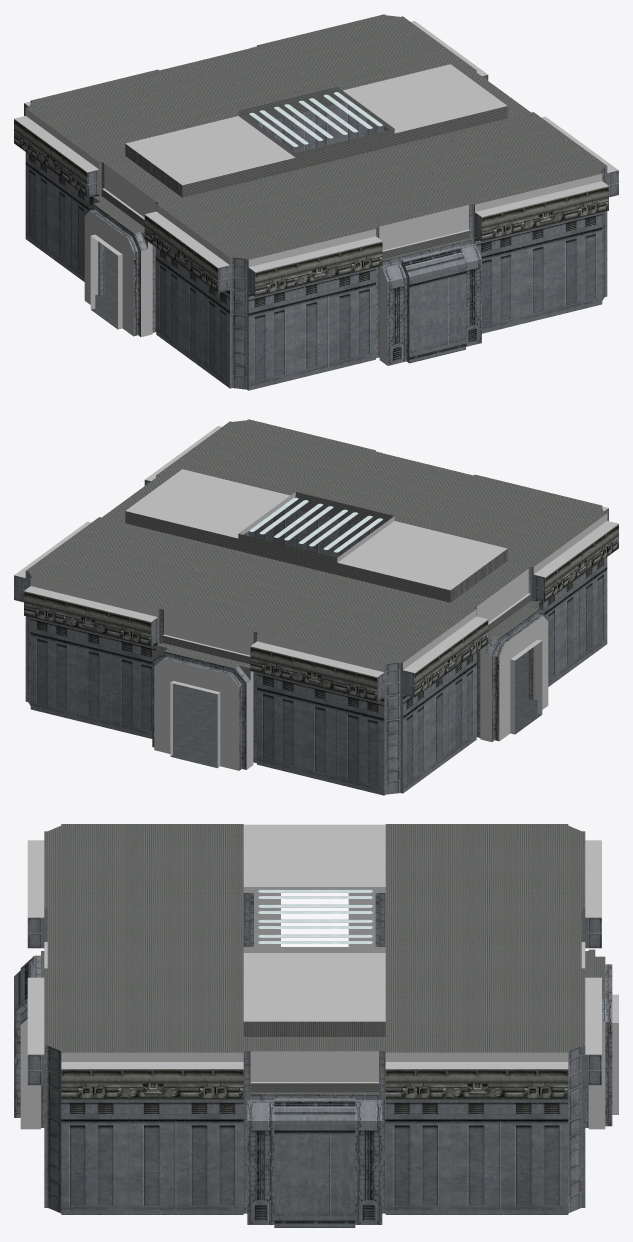
Rendered from poi_all_impl_bunker_warren_s01_r24_smallroom24_mesh_r24.fbx.
3 renders of one model, top to bottom at view 1: azimuth 30°, elevation 25°; view 2: azimuth 150°, elevation 25°; view 3: azimuth 270°, elevation 25°, orthographic. The views are drawn at different scales.
Visible parts, largest first — view 1: mesh_node; view 2: mesh_node; view 3: mesh_node.
Boxes of the visible parts, x1,y1,x2,y2 form: mesh_node: (14, 14, 618, 390); mesh_node: (14, 419, 618, 795); mesh_node: (14, 824, 618, 1227).
Size of the model in its own units: 17.9 by 6 by 17.9.
